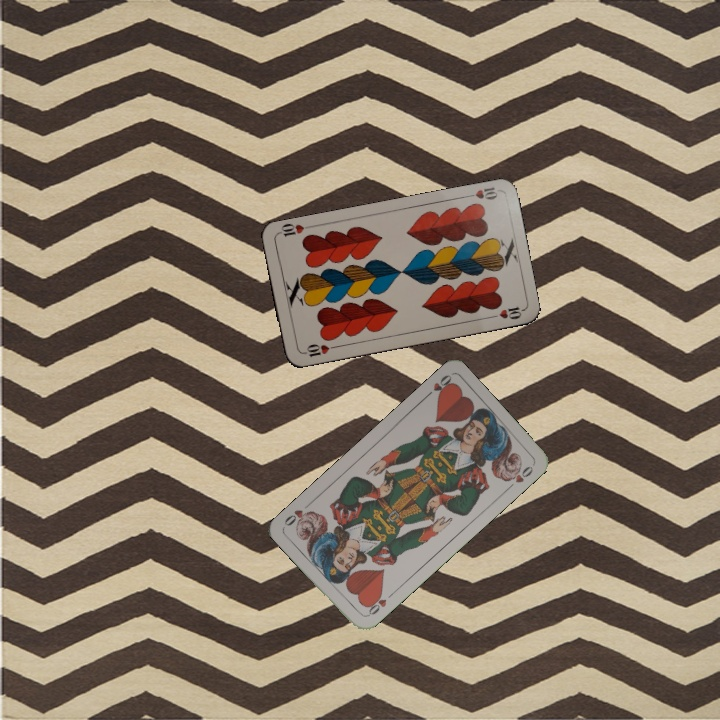H10: (299, 340, 339, 359), (461, 183, 501, 202)
HO: (420, 371, 456, 402), (362, 588, 396, 619)
